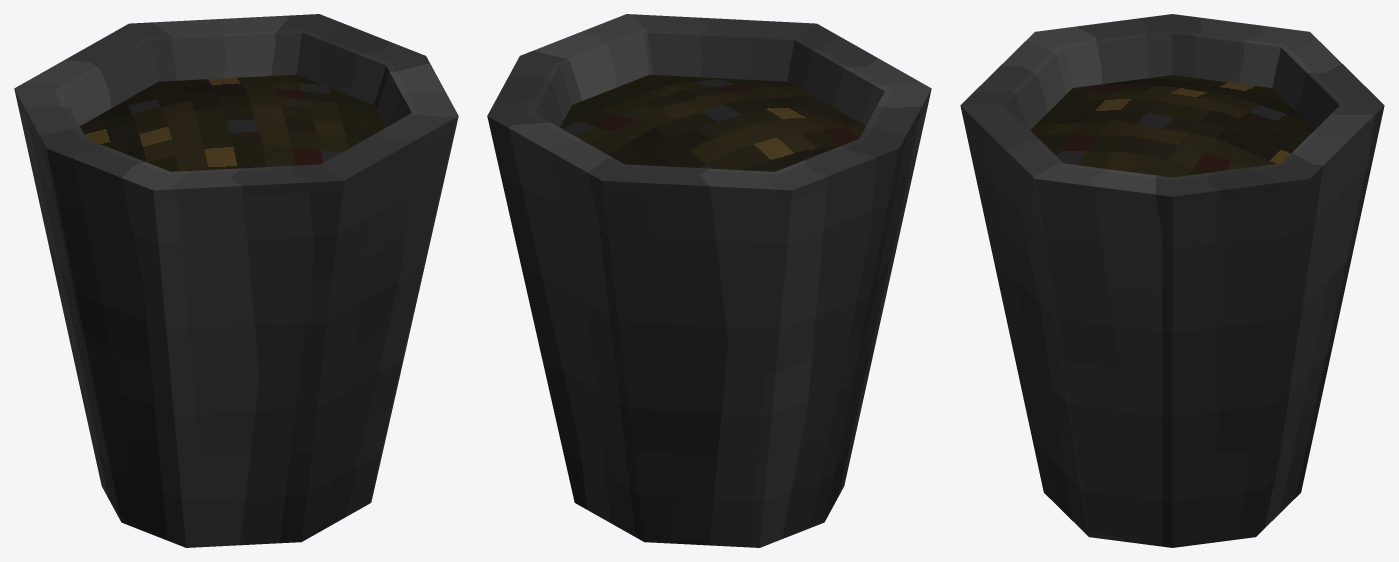
File: Garbage_2.fbx
3 views of the same model, side by side, from view 1: azimuth 30°, elevation 25°; view 2: azimuth 150°, elevation 25°; view 3: azimuth 270°, elevation 25° (orthographic).
Parts seen in each view (by area): view 1: Garbage_2; view 2: Garbage_2; view 3: Garbage_2.
Boxes of the visible parts, bbox=[...] form: Garbage_2: bbox=[14, 14, 458, 547]; Garbage_2: bbox=[487, 14, 931, 547]; Garbage_2: bbox=[960, 14, 1384, 547].
Bounding box in the file's own units: 24.07 × 23.79 × 23.62.
